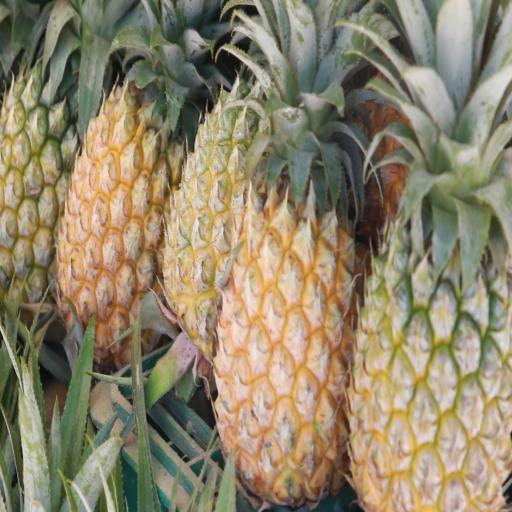------------------------------: (0, 0, 81, 321)
Pineapple - v8 v1: (343, 57, 512, 512), (210, 79, 362, 510), (54, 40, 186, 373), (159, 10, 286, 354)
